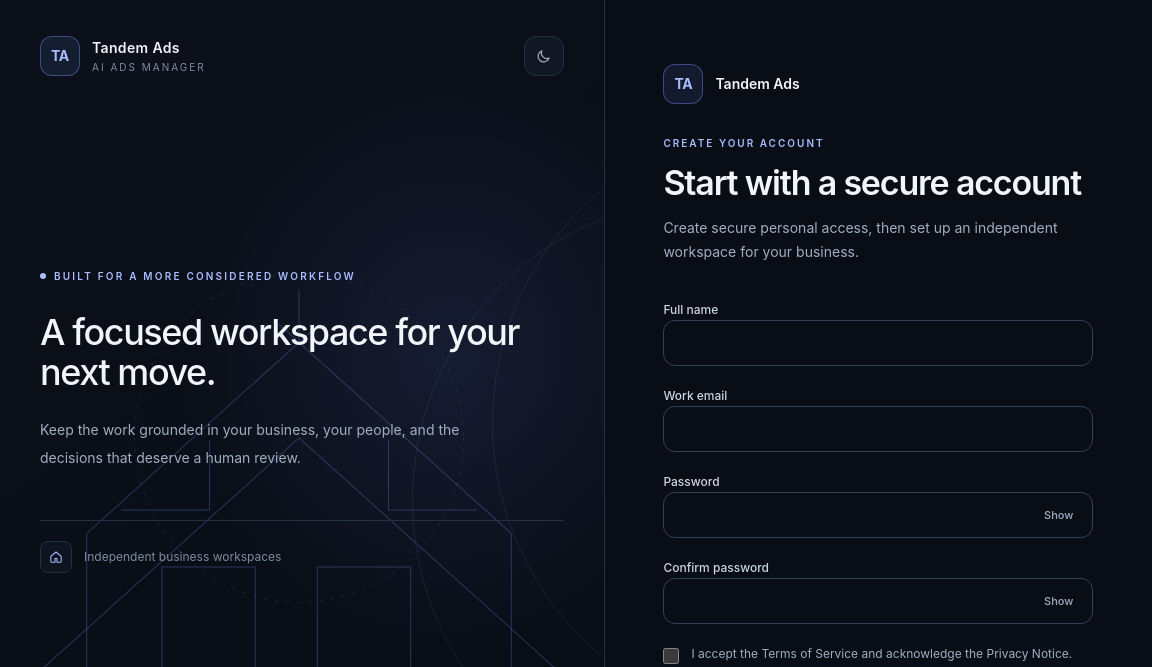
Test: authentication routes and forms › rejects signup when passwords do not match and requires terms acceptance
This screenshot has width=1152, height=667.
Type "Test User" into the field labelled "Full name".
click(878, 343); type("Test User")  # box top-left (663, 320), bottom-right (1093, 366)
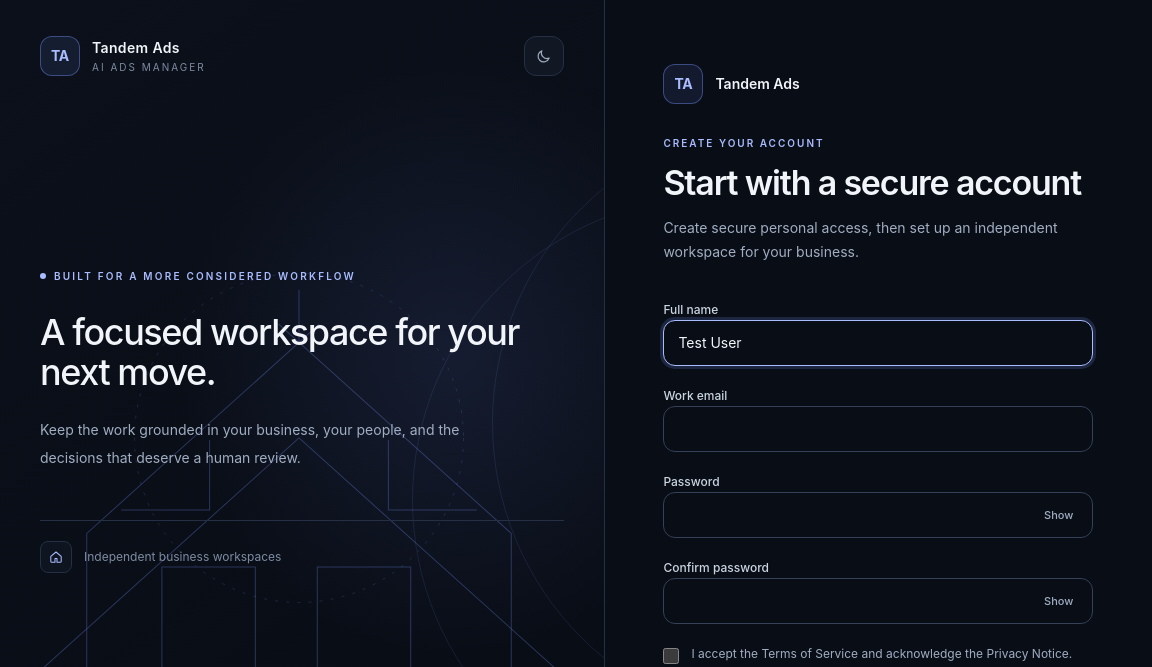
Type "person@example.invalid" into the field labelled "Work email".
click(878, 429); type("person@example.invalid")  # box top-left (663, 406), bottom-right (1093, 452)
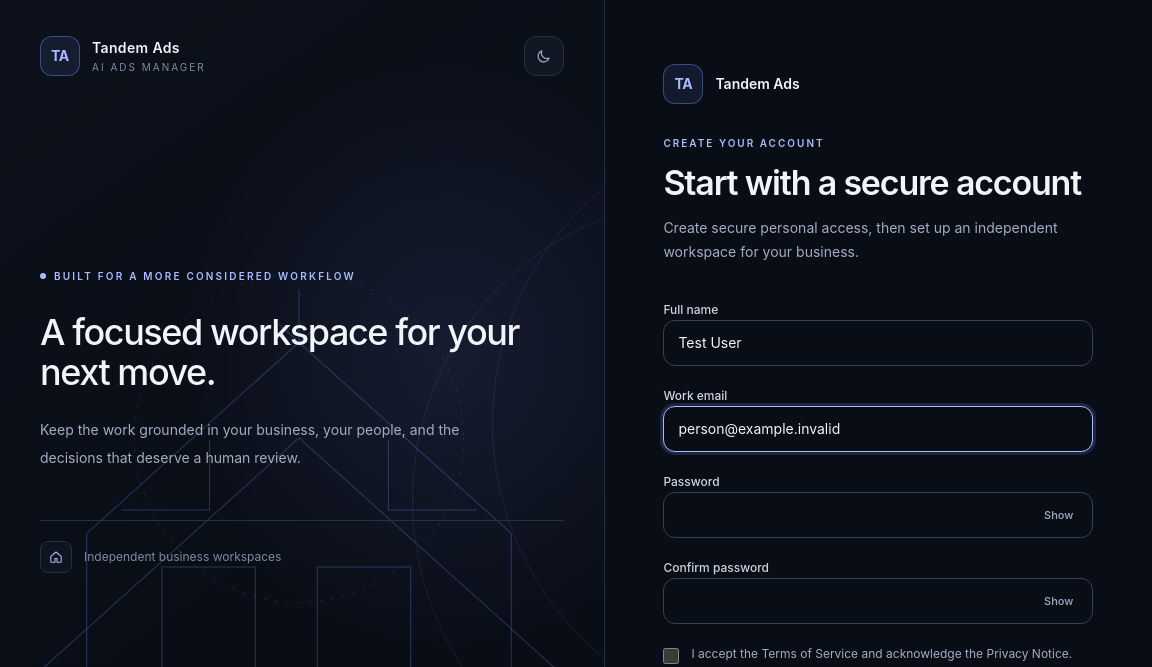
Type "correct horse battery" into the password field labelled "Password".
click(878, 515); type("correct horse battery")  # box top-left (663, 492), bottom-right (1093, 538)
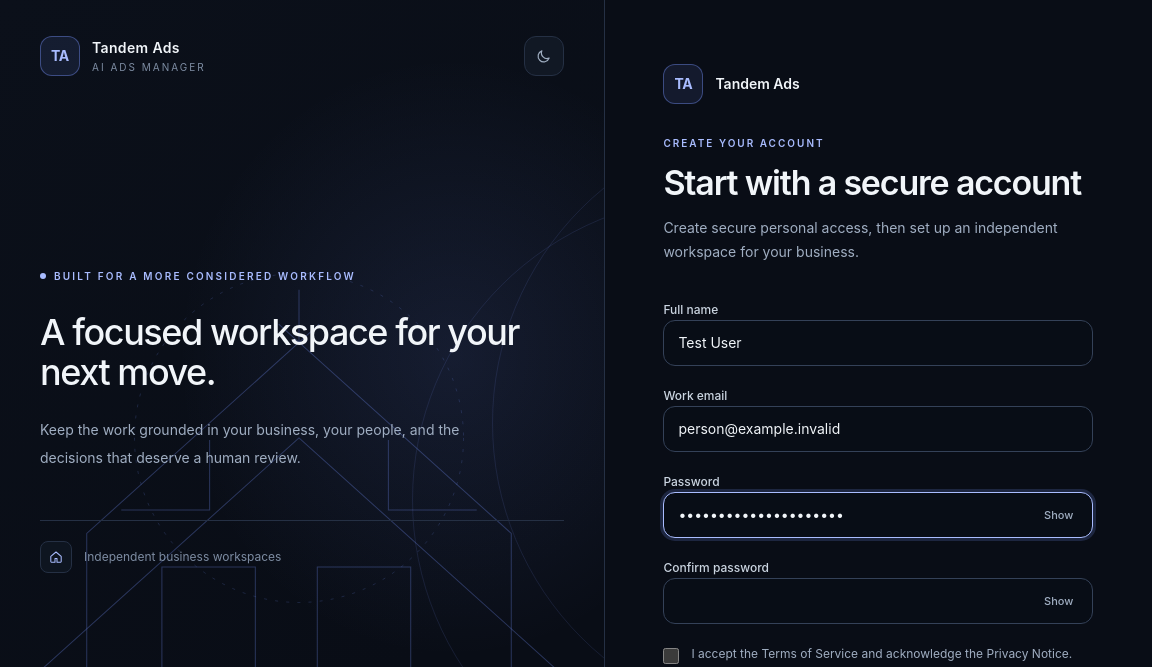
Type "different password" into the password field labelled "Confirm password".
click(878, 601); type("different password")  # box top-left (663, 578), bottom-right (1093, 624)
(page scrolled)
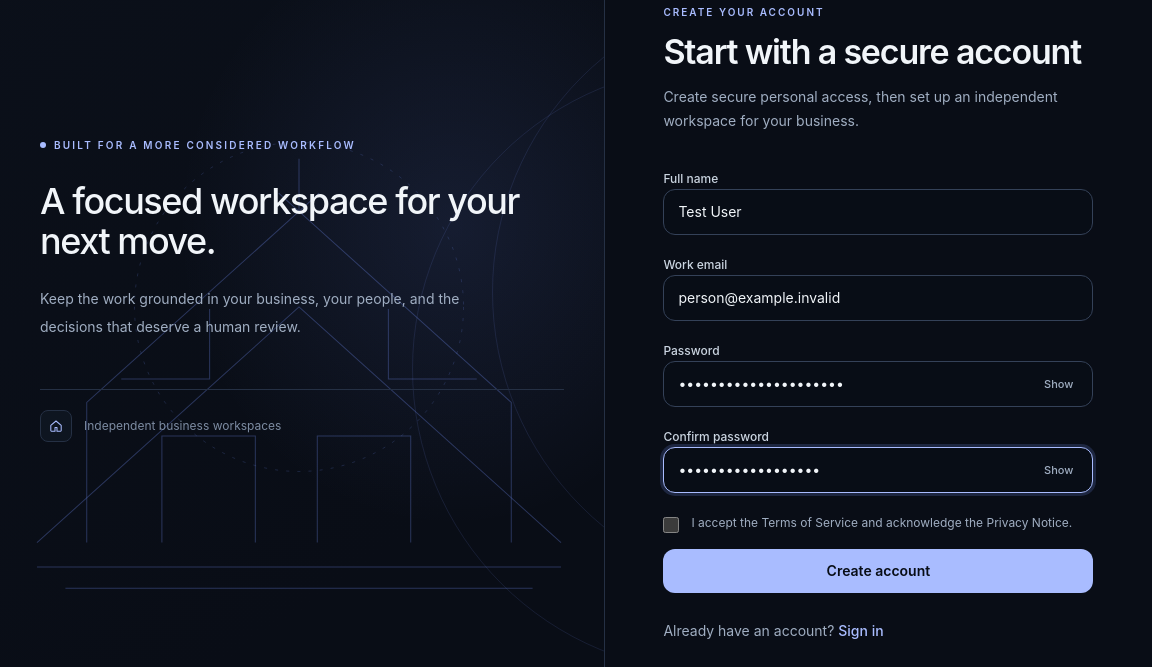
Click the button "Create account".
click(878, 571)  # box top-left (663, 549), bottom-right (1093, 593)
(page scrolled)
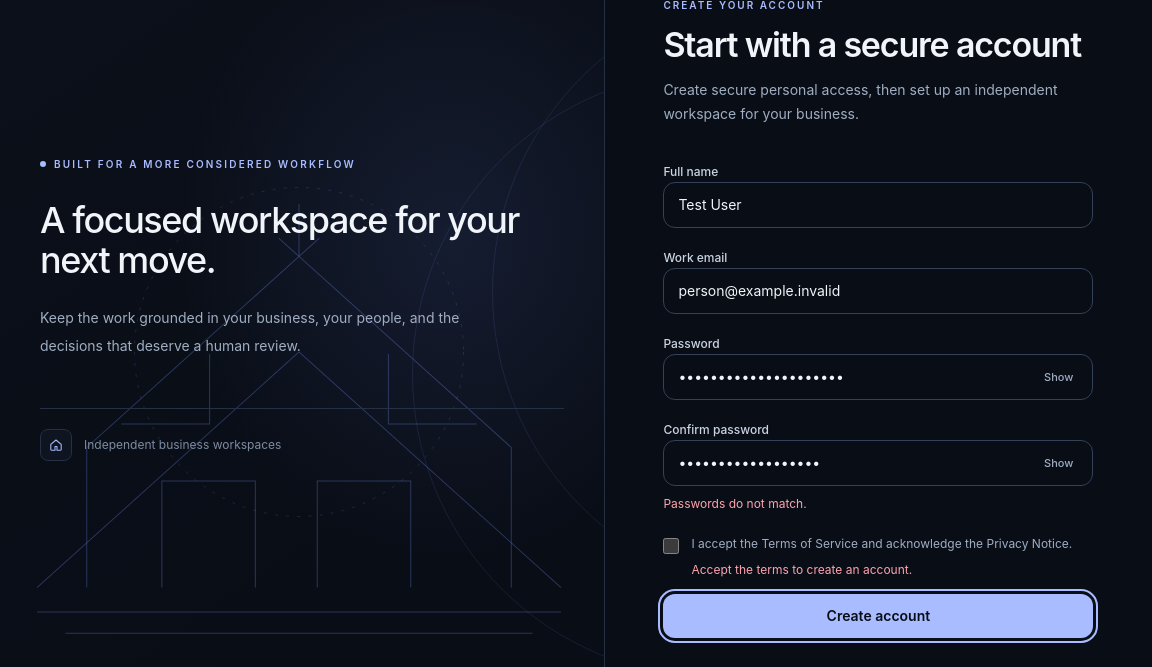
Expected: the text "Passwords do not match." is shown, top-left (663, 496), bottom-right (807, 511)
Expected: the text "Accept the terms to create an account." is shown, top-left (691, 562), bottom-right (912, 577)
